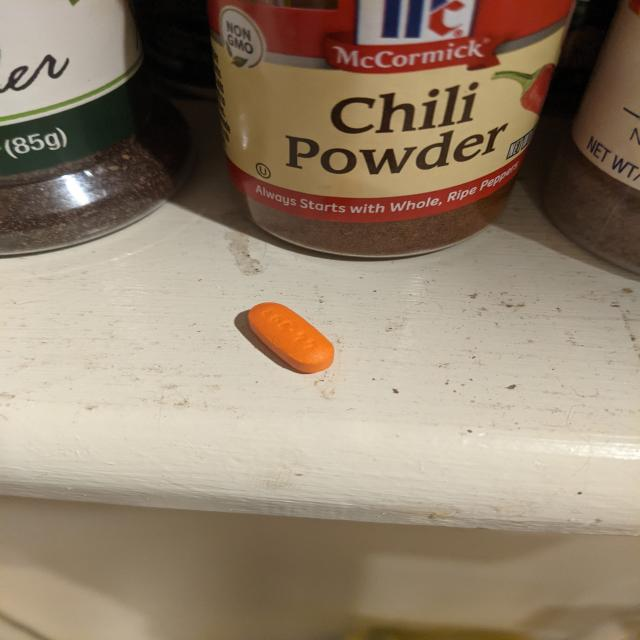non-organic waste: (246, 301, 336, 374)
